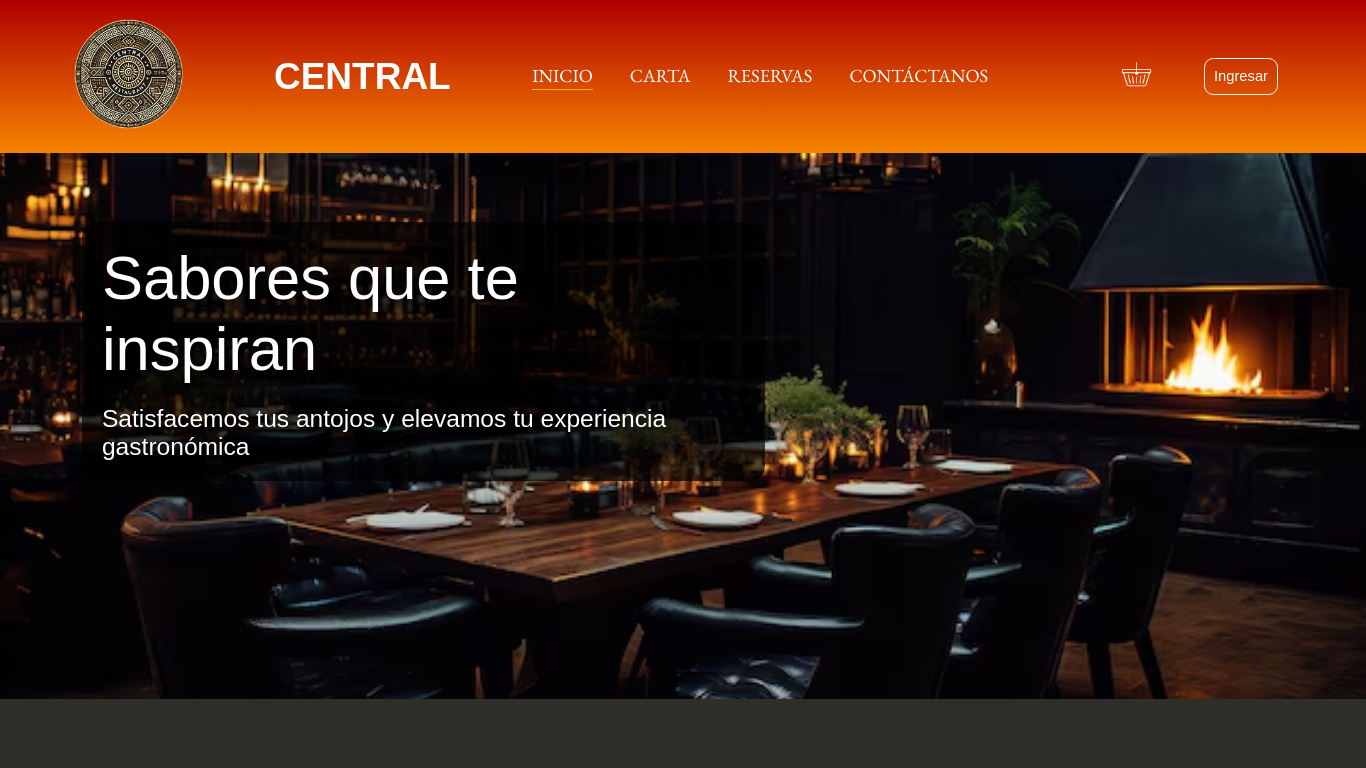
Scenario: Página de Inicio › debe mostrar el popup de login al hacer clic en el botón de login
The width and height of the screenshot is (1366, 768).
Click the button "Ingresar". click: (1242, 77)
box: 1204,58 -> 1279,95
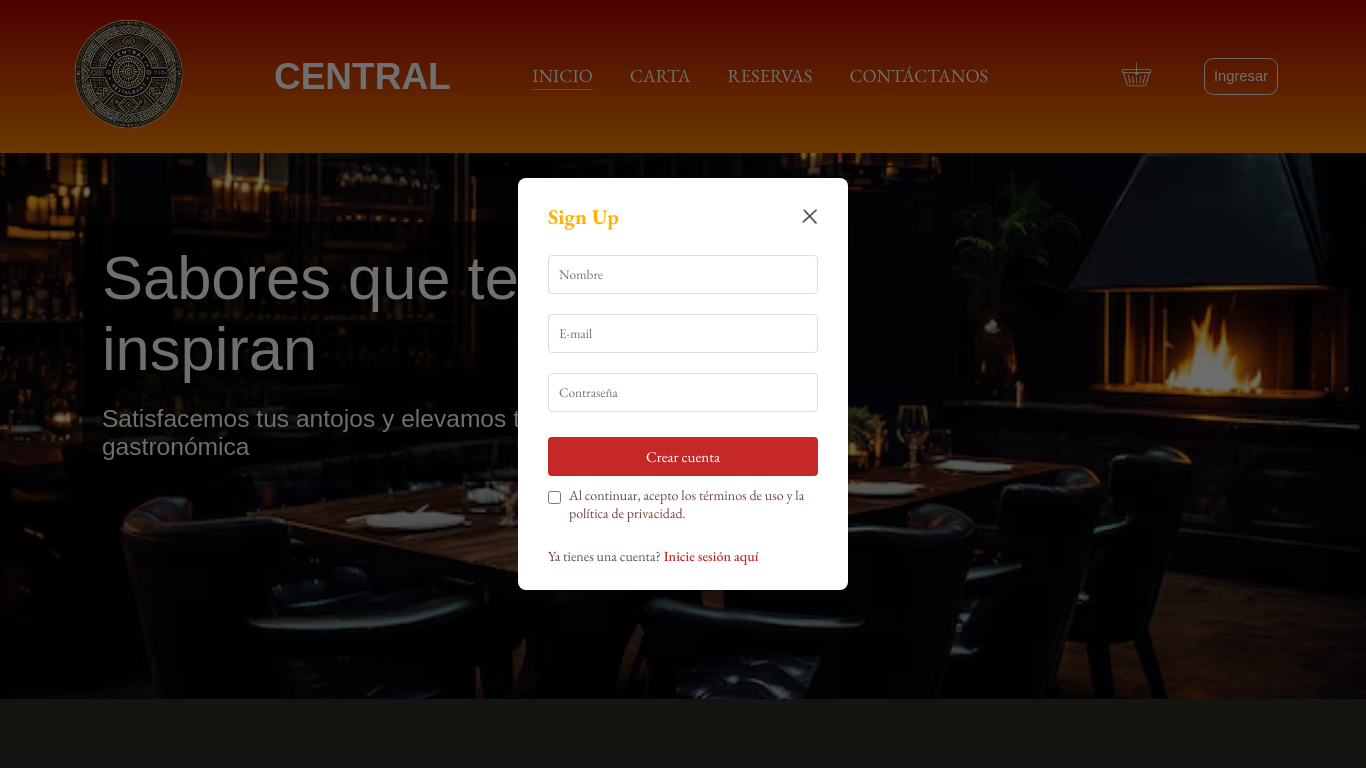
Result: the element with class "login-popup" is shown
